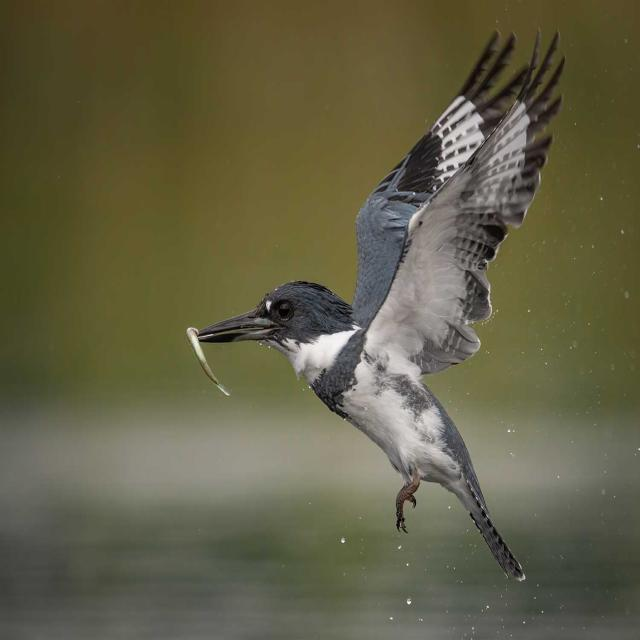kingfisher: (171, 16, 574, 601)
